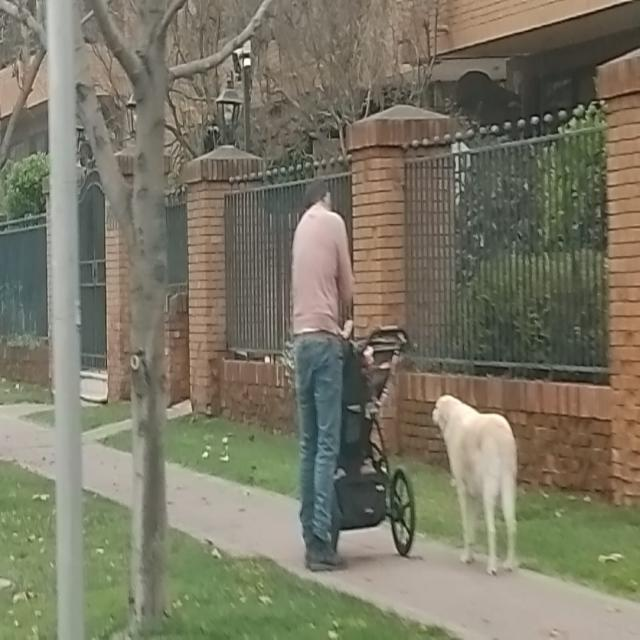person: (289, 179, 357, 578)
